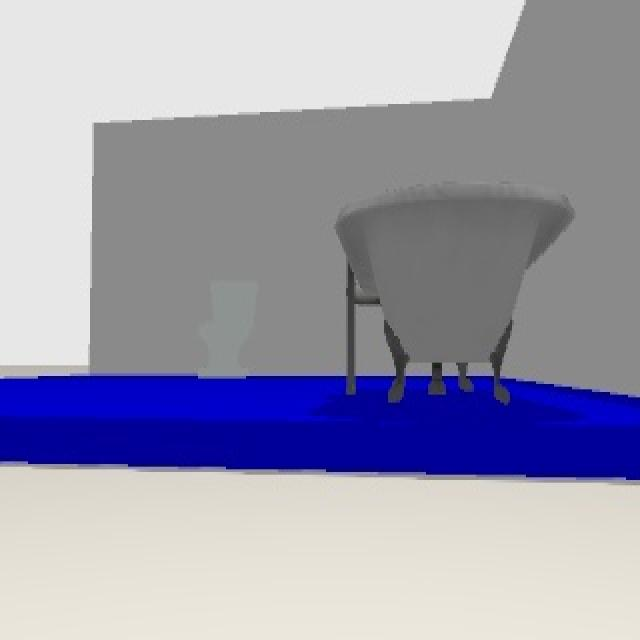bathtub: (334, 181, 578, 405)
